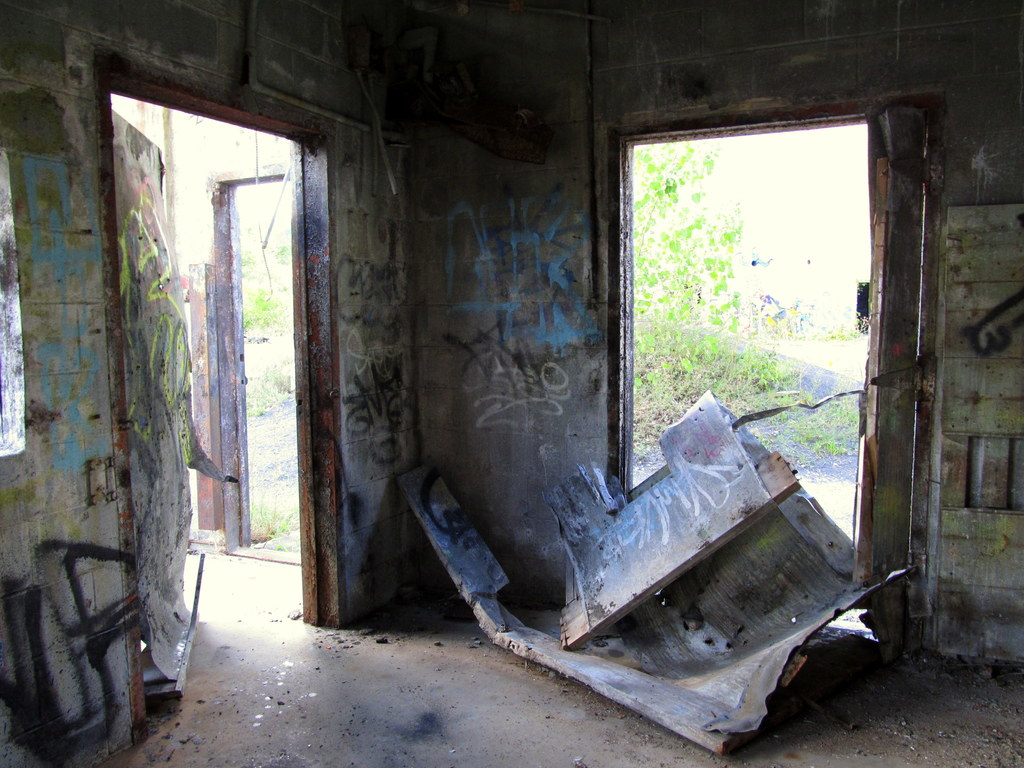Tree: (632, 136, 745, 393)
